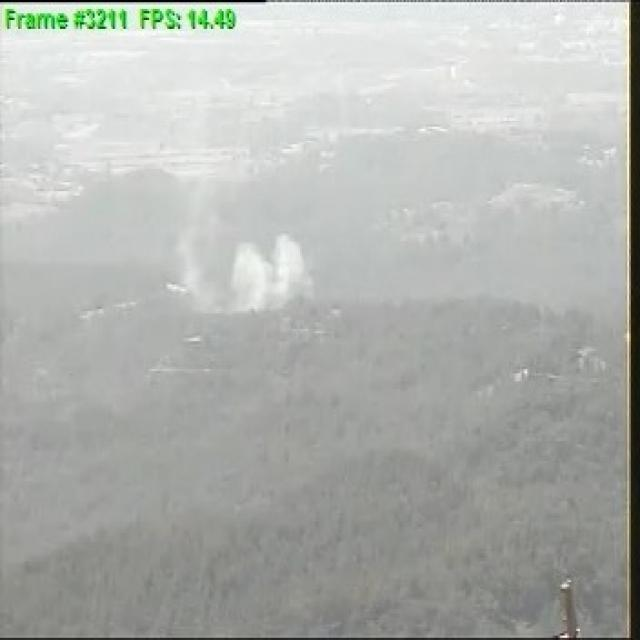smoke: (180, 233, 322, 316)
